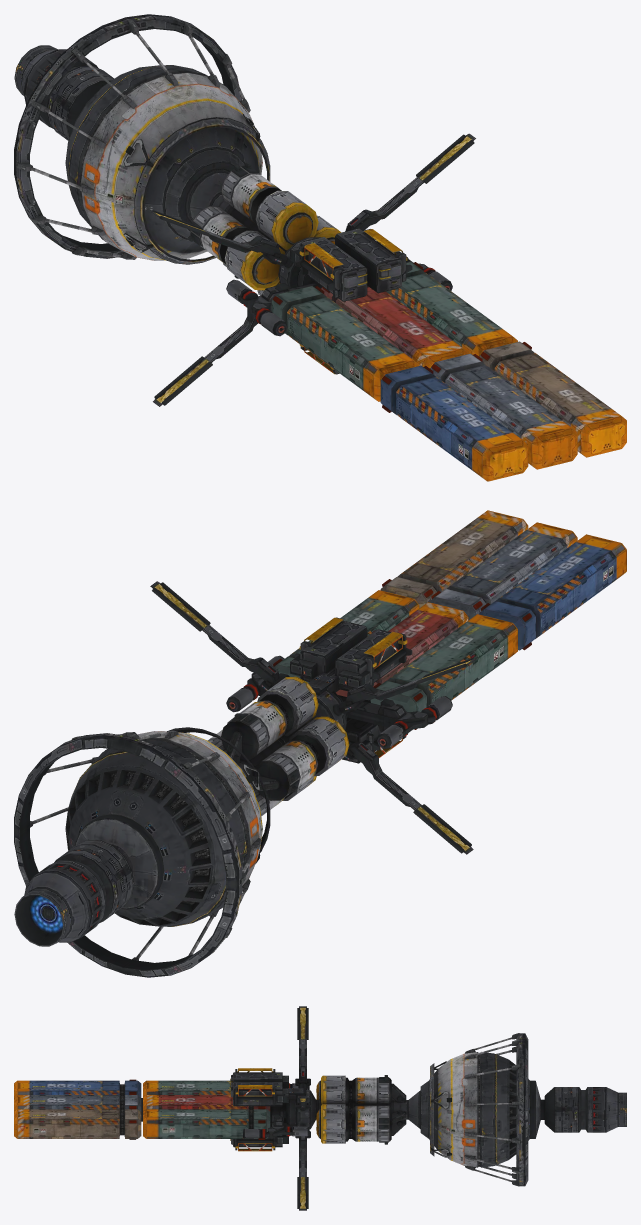
The model's file is apa_freighter_2f.glb.
3 renders of one model, top to bottom at view 1: azimuth 30°, elevation 25°; view 2: azimuth 150°, elevation 25°; view 3: azimuth 270°, elevation 25°, orthographic. The views are drawn at different scales.
Parts seen in each view (by area): view 1: apa_freighter_2f; view 2: apa_freighter_2f; view 3: apa_freighter_2f.
Boxes of the visible parts, <box> form: apa_freighter_2f: <box>14,14,626,481</box>; apa_freighter_2f: <box>14,510,626,977</box>; apa_freighter_2f: <box>14,1006,626,1210</box>.
Size of the model in its own units: 78.24 by 55.28 by 220.
1 material, 1 textured.
